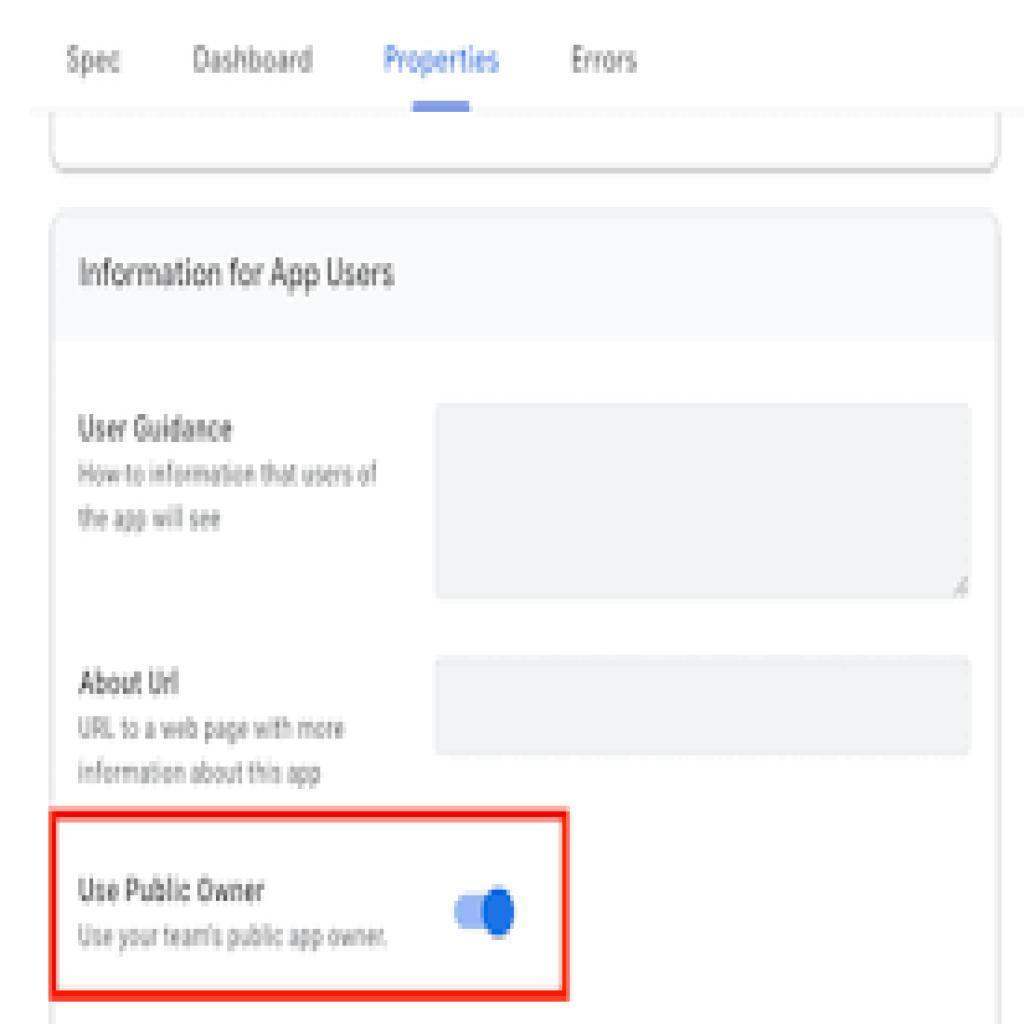input: (434, 652, 972, 758)
label: (74, 252, 412, 300), (71, 875, 278, 909), (188, 40, 324, 81), (377, 38, 508, 77), (78, 665, 191, 701), (564, 41, 646, 80), (64, 40, 130, 83)
switch: (454, 884, 518, 943)
